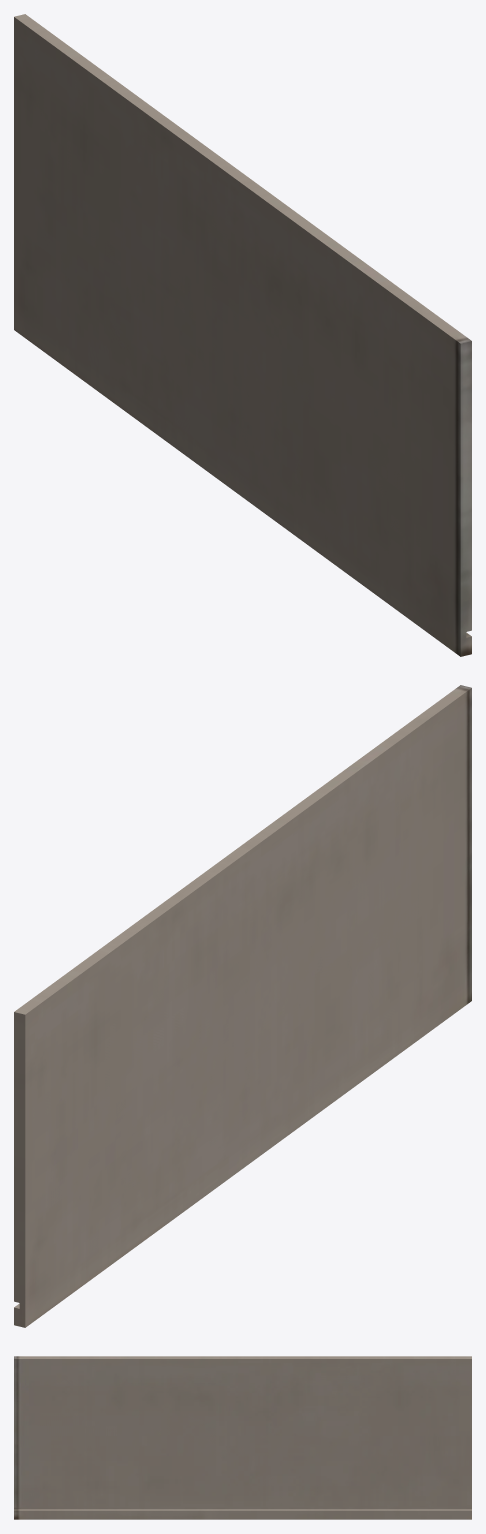
Rendered from link_3__drawer_side-124.glb.
The picture shows the model from 3 angles, top to bottom: view 1: azimuth 30°, elevation 25°; view 2: azimuth 150°, elevation 25°; view 3: azimuth 270°, elevation 25°; orthographic projection. The views are drawn at different scales.
Parts seen in each view (by area): view 1: geometry_0; view 2: geometry_0; view 3: geometry_0.
Part boxes in pixels (x1,y1,x2,y2): geometry_0: (14,14,471,656); geometry_0: (14,685,471,1327); geometry_0: (14,1356,471,1519).
Bounding box in the file's own units: 0.00525 × 0.1392 × 0.3597.
1 material, 1 textured.
